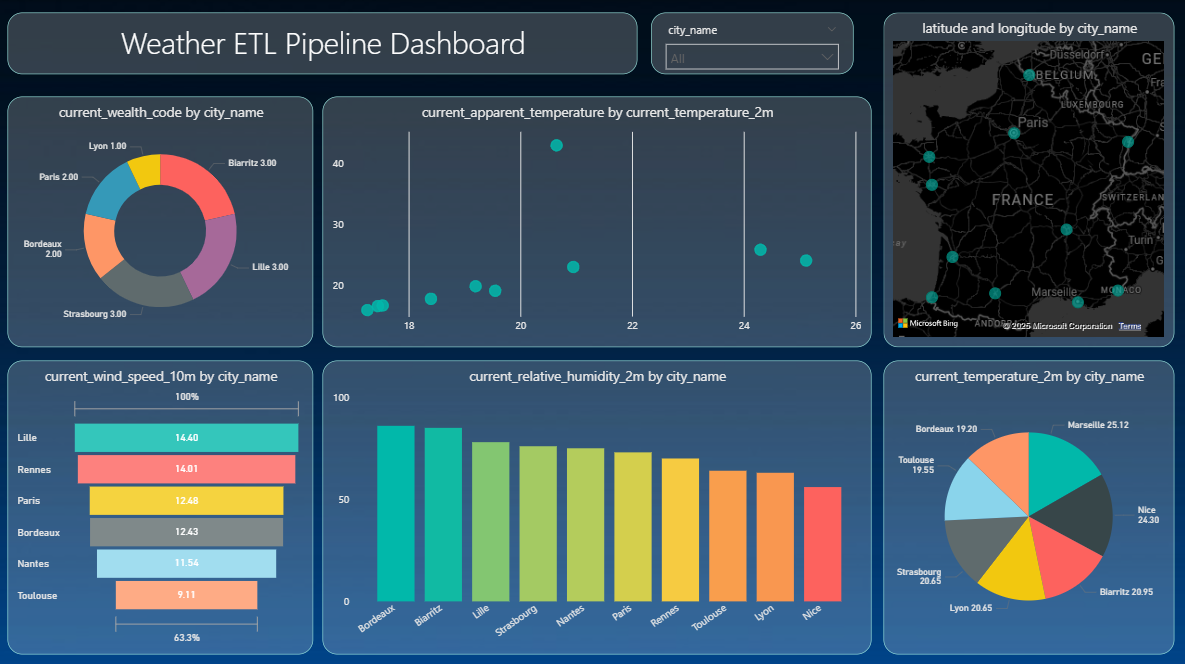

The page's visual inventory and layout, read from the dashboard file:
{"tool":"powerbi","page":{"name":"Page 1","canvas":[1280,720],"ordinal":0},"visuals":[{"type":"donutChart","title":"current_wealth_code by city_name","fields":{"Category":["weather.city_name"],"Y":["Sum(weather.current_weather_code)"]},"box":[8.1,105.2,330.3,270.4],"z":0},{"type":"textbox","box":[8.1,14.6,680.1,66.4],"z":1000},{"type":"clusteredColumnChart","title":"current_relative_humidity_2m by city_name","fields":{"Category":["weather.city_name"],"Y":["Sum(weather.current_relative_humidity_2m)"]},"box":[348.1,390.2,592.6,317.4],"z":2000},{"type":"funnel","title":"current_wind_speed_10m by city_name","fields":{"Category":["weather.city_name"],"Y":["Sum(weather.current_wind_speed_10m)"]},"box":[8.1,390.2,330.3,317.4],"z":3000},{"type":"map","title":"latitude and longitude by city_name","fields":{"Category":["weather.city_name"],"Y":["Avg(weather.latitude)"],"X":["Avg(weather.longitude)"]},"box":[953.7,14.6,314.1,361.1],"z":4000},{"type":"pieChart","title":"current_temperature_2m by city_name","fields":{"Category":["weather.city_name"],"Y":["Sum(weather.current_temperature_2m)"]},"box":[953.7,390.2,314.1,317.4],"z":5000},{"type":"scatterChart","title":"current_apparent_temperature by current_temperature_2m","fields":{"X":["weather.current_temperature_2m"],"Y":["Sum(weather.current_apparent_temperature)"]},"box":[348.1,105.2,592.6,270.4],"z":6000},{"type":"slicer","fields":{"Values":["weather.city_name"]},"box":[702.7,14.6,218.6,66.4],"z":7000}]}

Visuals, with their boxes in screenshot pixels (x1, y1, x2, y2), scaled from the page's 1280x720 canvas onto the 1185x664 screenshot:
"current_wealth_code by city_name" donutChart: <box>7,97,313,346</box>
textbox: <box>7,13,637,75</box>
"current_relative_humidity_2m by city_name" clusteredColumnChart: <box>322,360,871,653</box>
"current_wind_speed_10m by city_name" funnel: <box>7,360,313,653</box>
"latitude and longitude by city_name" map: <box>883,13,1174,346</box>
"current_temperature_2m by city_name" pieChart: <box>883,360,1174,653</box>
"current_apparent_temperature by current_temperature_2m" scatterChart: <box>322,97,871,346</box>
slicer - weather.city_name: <box>651,13,853,75</box>
